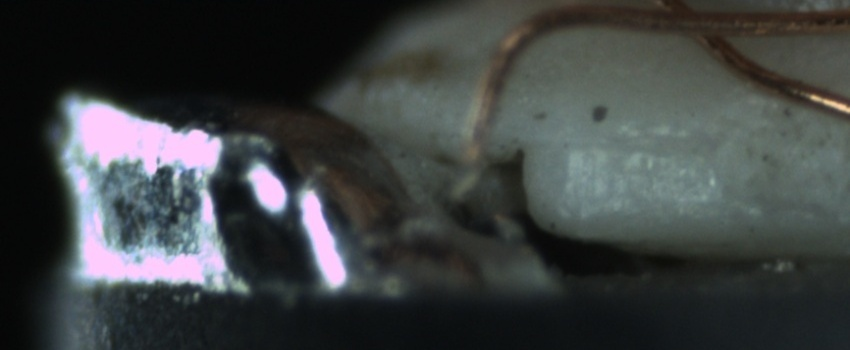CL: (662, 6, 752, 53)
DL: (534, 113, 707, 177)
